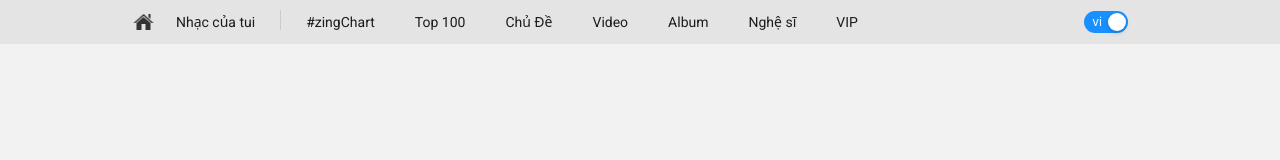
Scenario: Tests with Navbar › should switch language
Click the switch: (1106, 22) [1084, 11, 1128, 33]
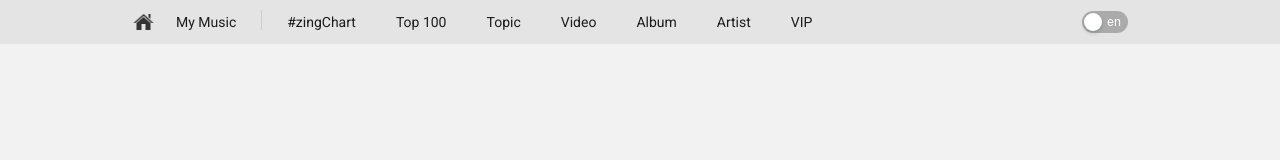
Expected: the link "My Music" is shown, [176, 15, 236, 29]
Click the switch: (1105, 22) [1082, 11, 1128, 33]
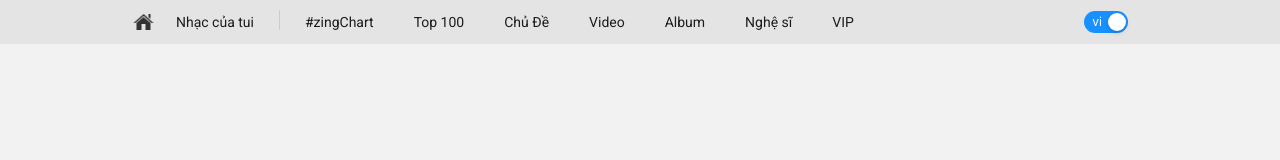
Expected: the link "Nhạc của tui" is shown, [176, 15, 254, 29]
